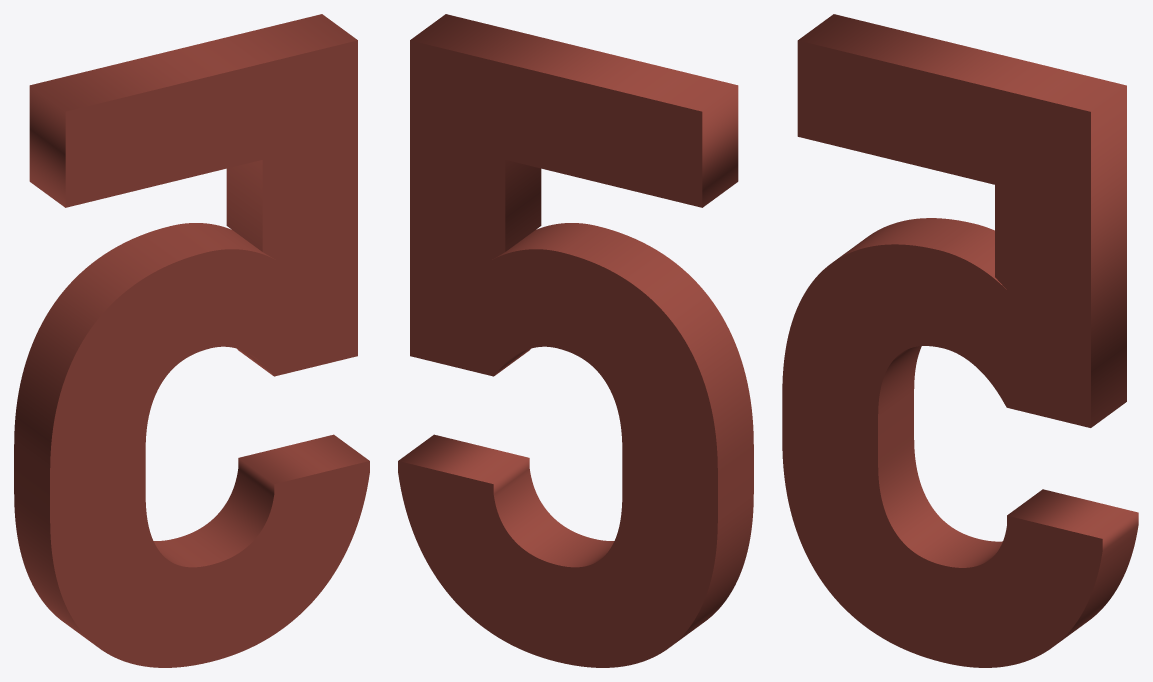
Rendered from Цифра_5.fbx.
3 views of the same model, side by side, from view 1: azimuth 30°, elevation 25°; view 2: azimuth 150°, elevation 25°; view 3: azimuth 330°, elevation 25° (orthographic).
Visible parts, largest first — view 1: 5; view 2: 5; view 3: 5.
Part boxes in pixels (x1,y1,x2,y2): 5: (14,14,369,667); 5: (398,14,753,667); 5: (782,14,1138,667).
Bounding box in the file's own units: 245 × 429 × 47.74.
